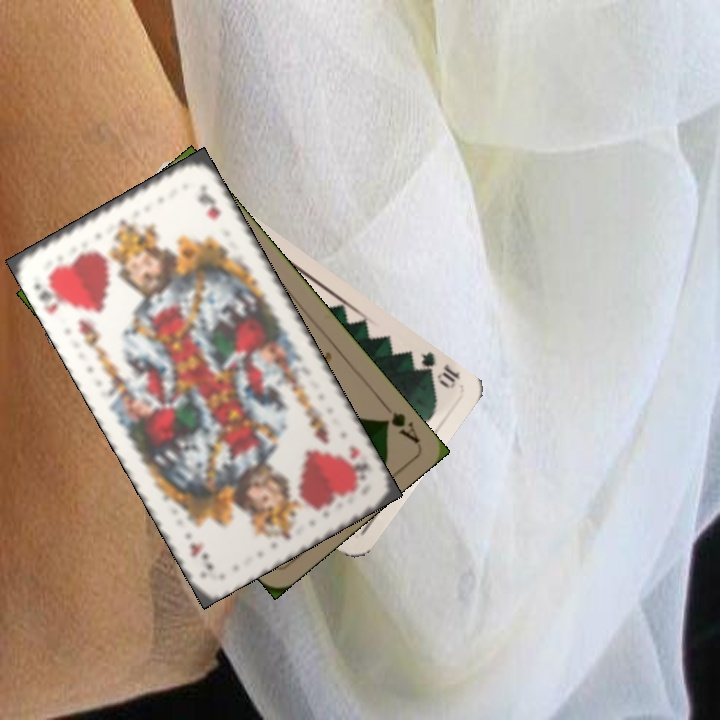G10: (407, 348, 463, 392)
GA: (377, 397, 422, 446)
HK: (30, 270, 62, 317), (344, 441, 376, 482)
